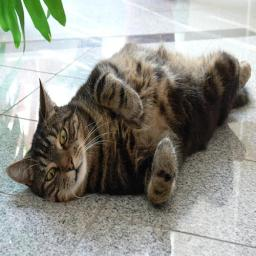catnose: (65, 157, 75, 172)
